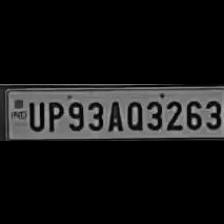2: (163, 96, 181, 130)
3: (202, 96, 222, 128), (86, 96, 104, 130), (144, 96, 162, 130)
6: (182, 97, 202, 129)
9: (66, 98, 84, 130)
A: (105, 97, 123, 131)
P: (46, 98, 62, 132)
Q: (124, 97, 142, 131)
U: (26, 98, 44, 132)
